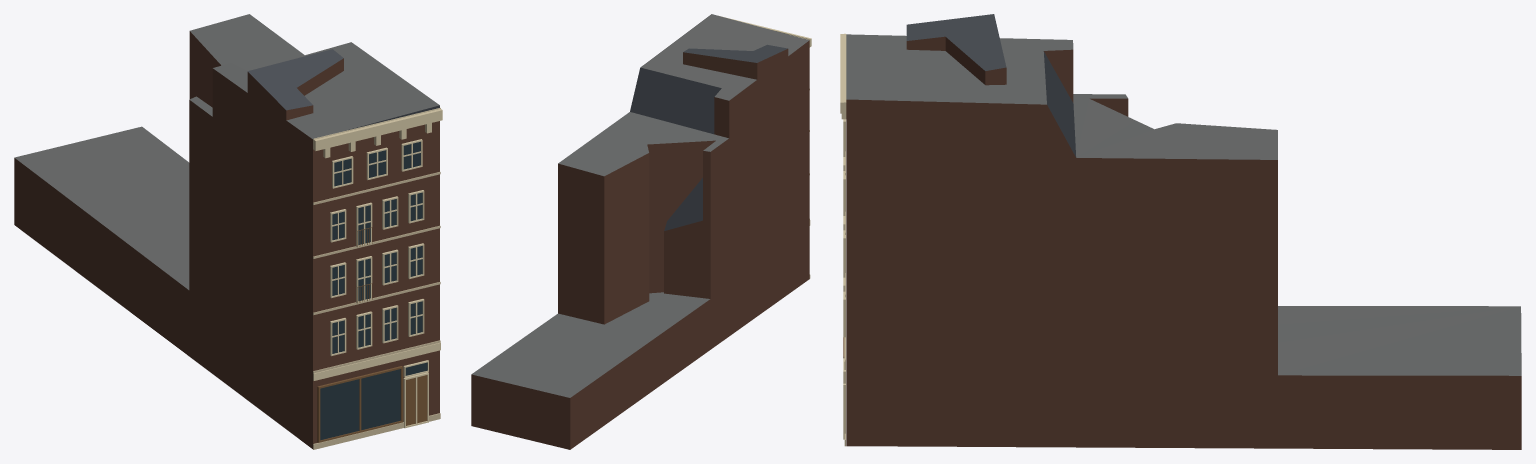
File: recipe-bilder-087959.glb
The picture shows the model from 3 angles, left to right: view 1: azimuth 30°, elevation 25°; view 2: azimuth 150°, elevation 25°; view 3: azimuth 270°, elevation 25°; orthographic projection. The views are drawn at different scales.
Visible parts, largest first — view 1: bilder-087959; view 2: bilder-087959; view 3: bilder-087959.
Part boxes in pixels (left/top/right/bottom): bilder-087959: left=14, top=14, right=442, bottom=449; bilder-087959: left=471, top=14, right=811, bottom=449; bilder-087959: left=840, top=14, right=1521, bottom=449.
Size of the model in its own units: 7.67 by 17.98 by 30.49.
